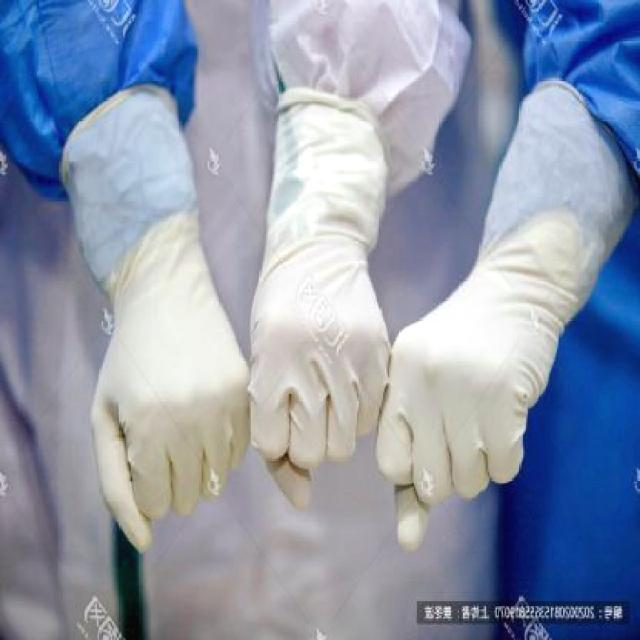hand_glove: (377, 263, 548, 559), (90, 267, 248, 559), (248, 245, 390, 510)
